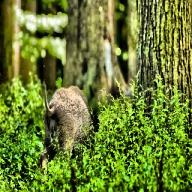boar: (39, 84, 95, 170)
